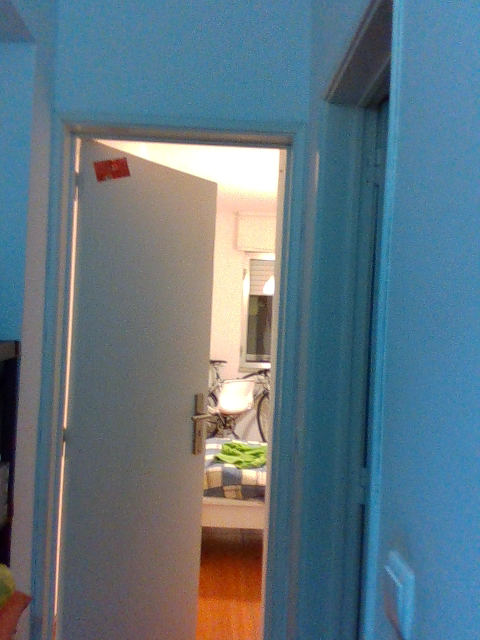semi: (14, 112, 303, 639)
